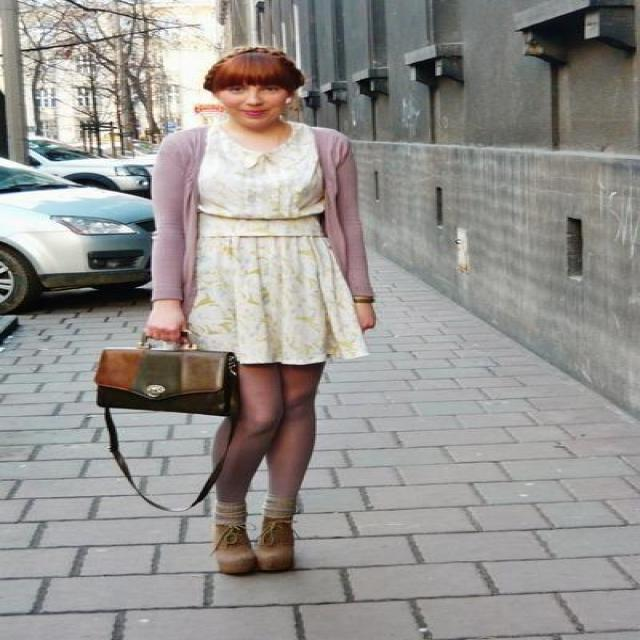bag: (96, 320, 269, 473)
dress: (189, 120, 368, 364)
jacket: (138, 123, 374, 323)
shoe: (192, 488, 322, 580)
